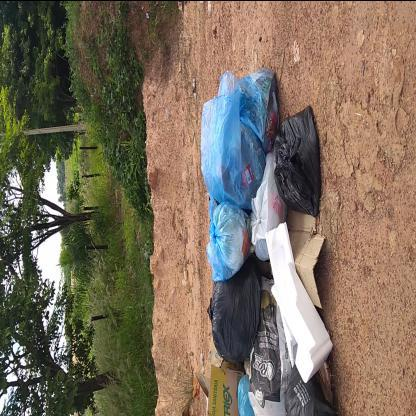lixo: (198, 86, 334, 415)
